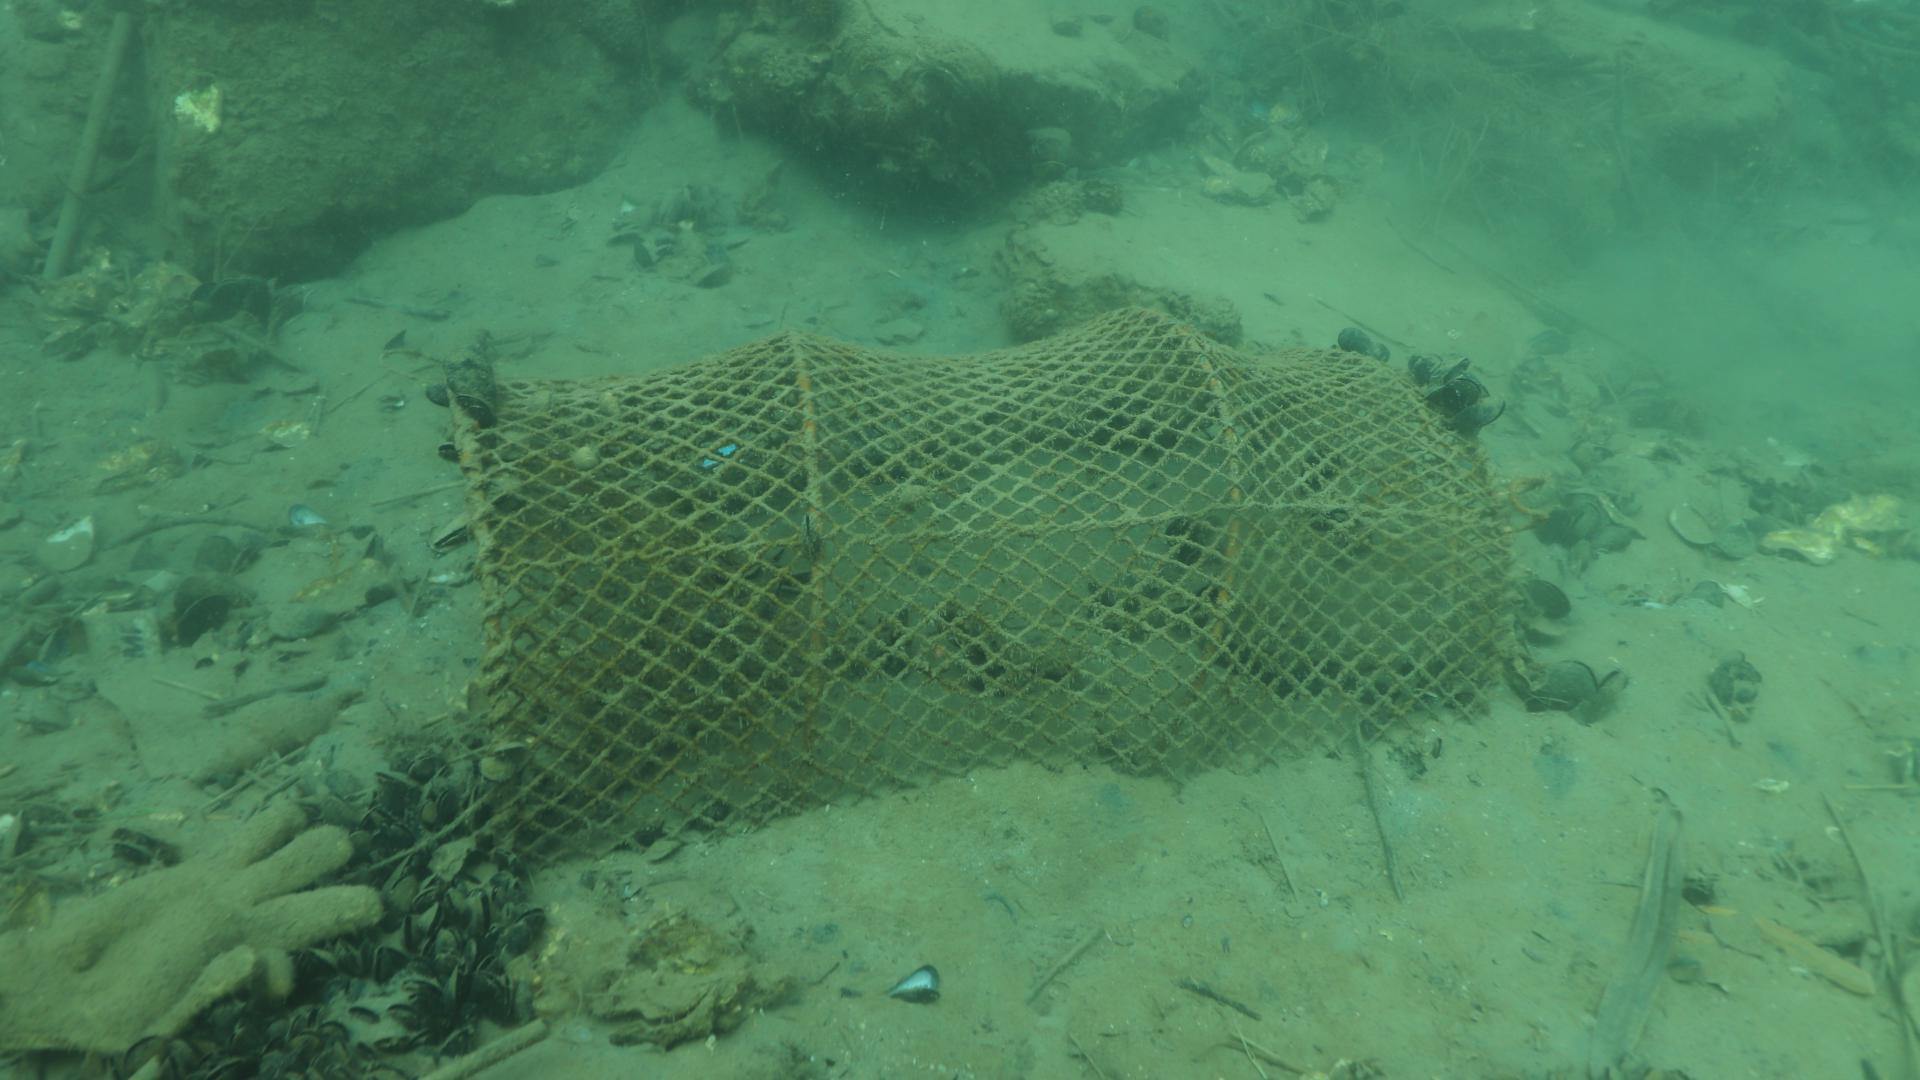spring fish trap: (440, 302, 1519, 876)
